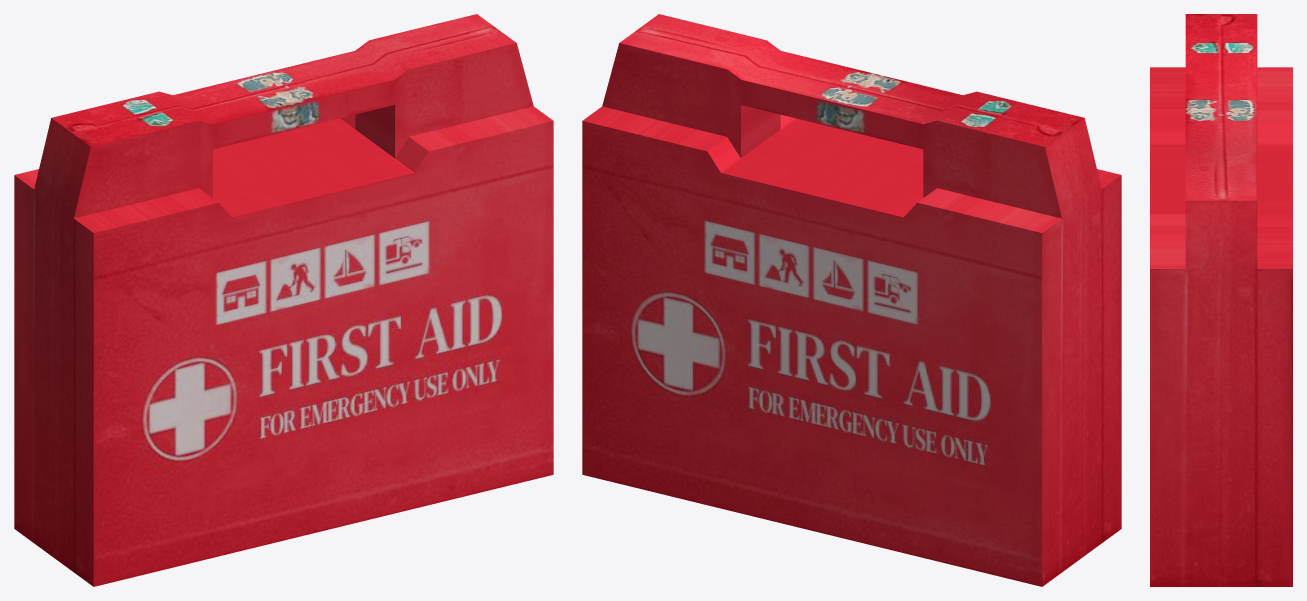
File: i_medkit.glb
3 renders of one model, left to right at view 1: azimuth 30°, elevation 25°; view 2: azimuth 150°, elevation 25°; view 3: azimuth 270°, elevation 25°, orthographic. The views are drawn at different scales.
Parts seen in each view (by area): view 1: FirstAid; view 2: FirstAid; view 3: FirstAid.
Part boxes in pixels (<box>): FirstAid: <box>14,14,553,586</box>; FirstAid: <box>582,14,1121,586</box>; FirstAid: <box>1150,14,1292,586</box>.
Bounding box in the file's own units: 0.42 × 0.3676 × 0.1256.
1 material, 1 textured.
